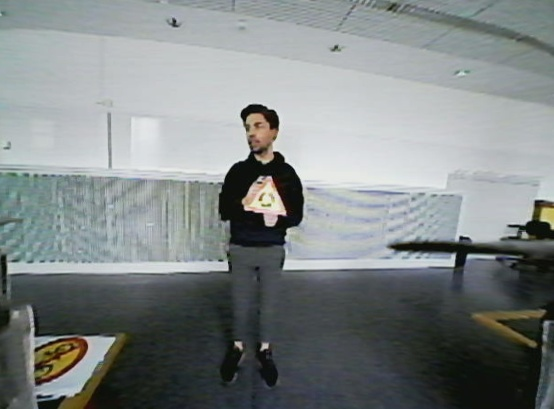roundabout_warning: (240, 172, 291, 219)
